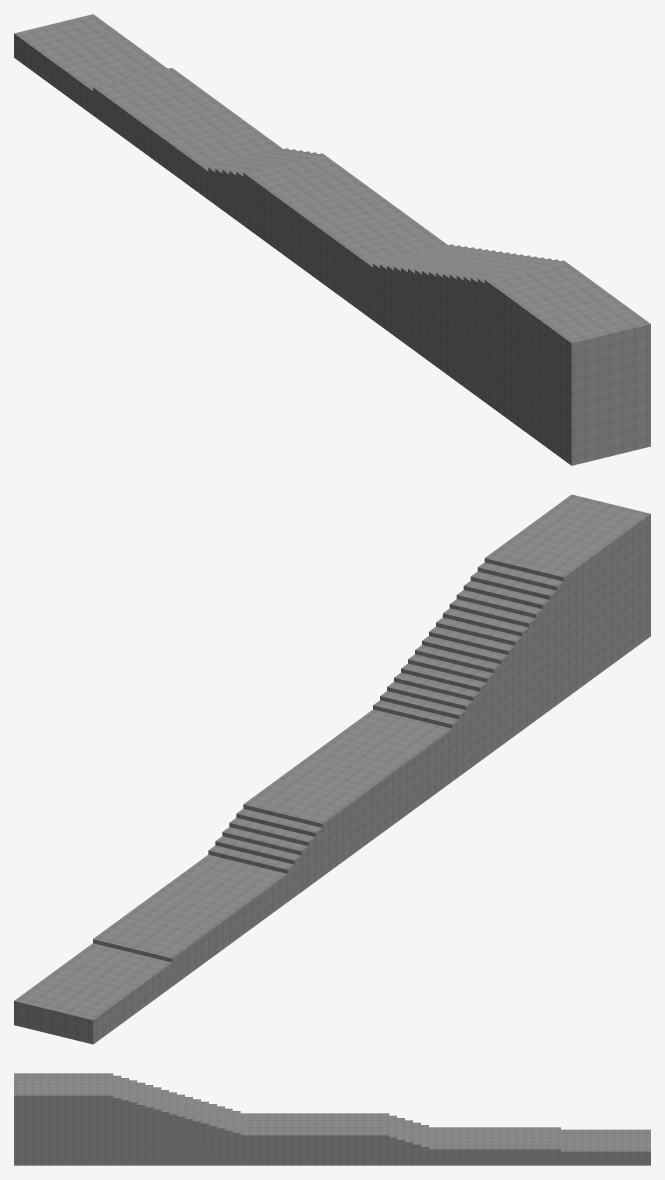
Rendered from AzrieliPavillionStairs.glb.
3 renders of one model, top to bottom at view 1: azimuth 30°, elevation 25°; view 2: azimuth 150°, elevation 25°; view 3: azimuth 270°, elevation 25°, orthographic. The views are drawn at different scales.
Visible parts, largest first — view 1: AzrieliPavillionStairs; view 2: AzrieliPavillionStairs; view 3: AzrieliPavillionStairs.
Boxes of the visible parts, x1,y1,x2,y2 form: AzrieliPavillionStairs: [14, 14, 650, 465]; AzrieliPavillionStairs: [14, 494, 650, 1044]; AzrieliPavillionStairs: [14, 1073, 650, 1165].
Size of the model in its own units: 4.94 by 7.3 by 60.2.
Materials: 1 (1 with a texture image).
